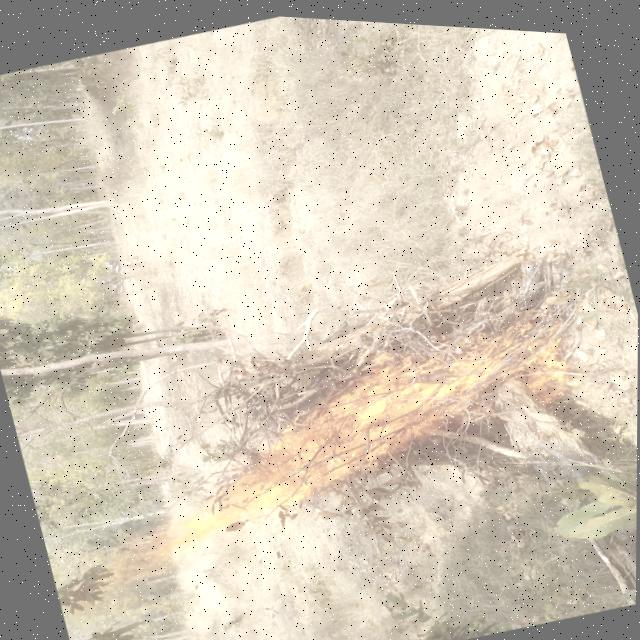Fire: (74, 280, 602, 600)
